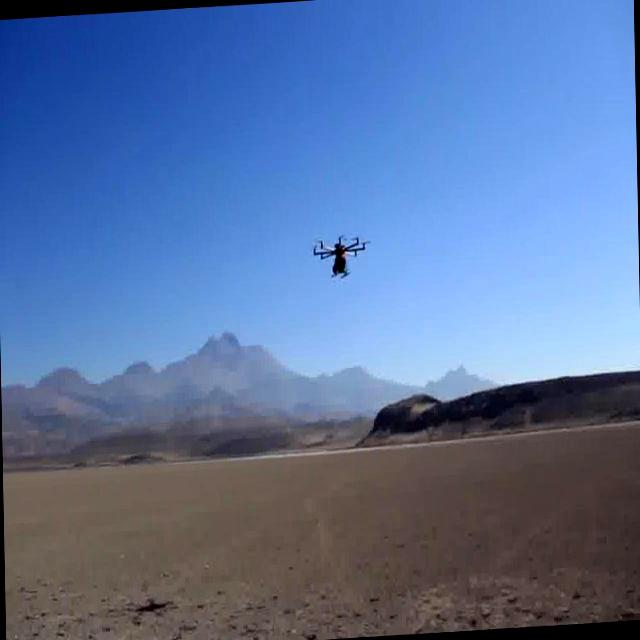drone: (309, 230, 368, 286)
